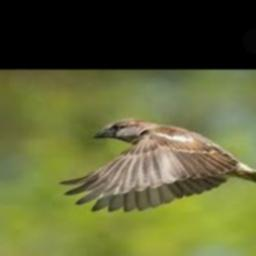Sparrow: (59, 118, 256, 211)
